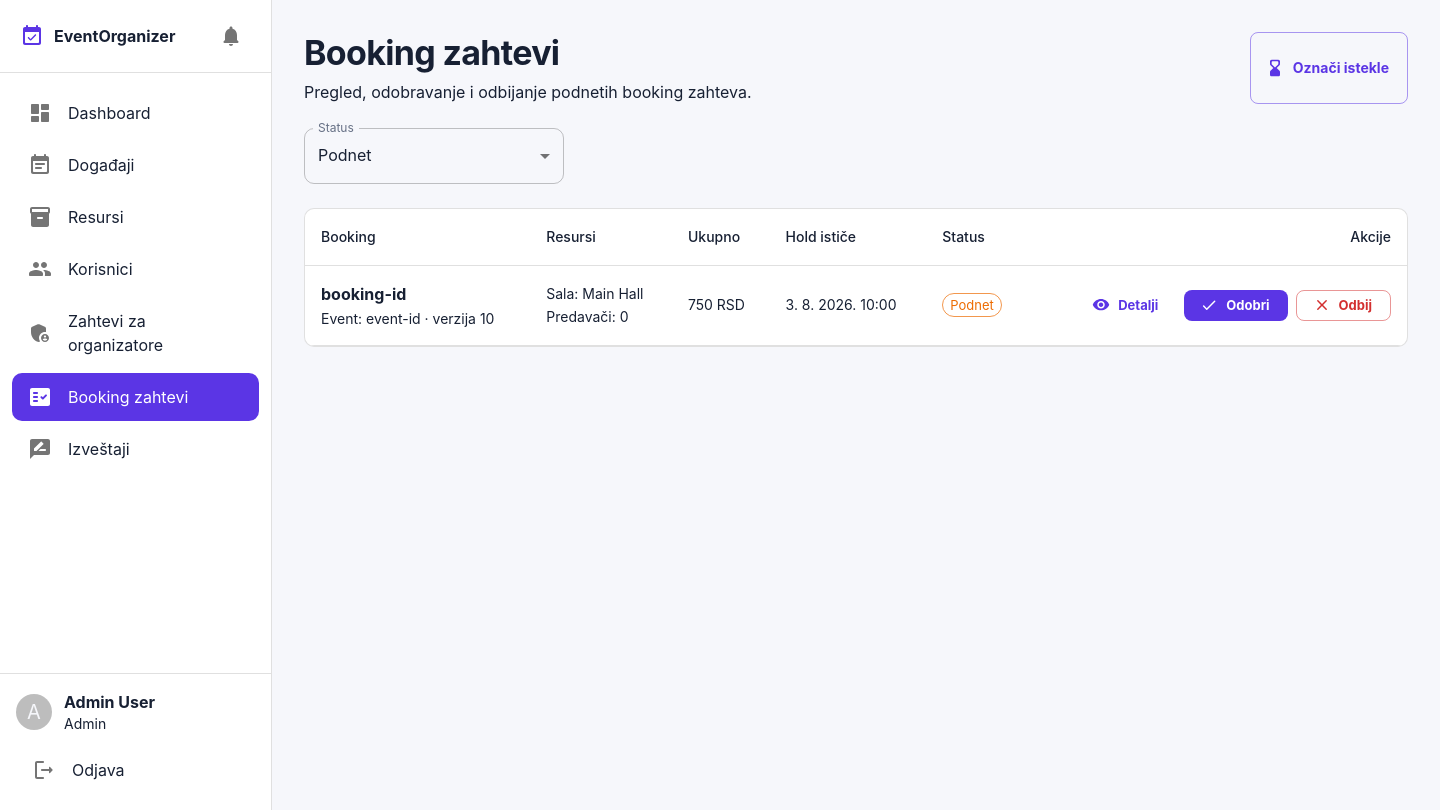
Test: App › rejects submitted bookings with reason and expires old holds
Expected: the text "Sala: Main Hall" is shown, [546, 284, 656, 304]
Click the button "Odbij": click(1343, 305) [1296, 290, 1391, 321]
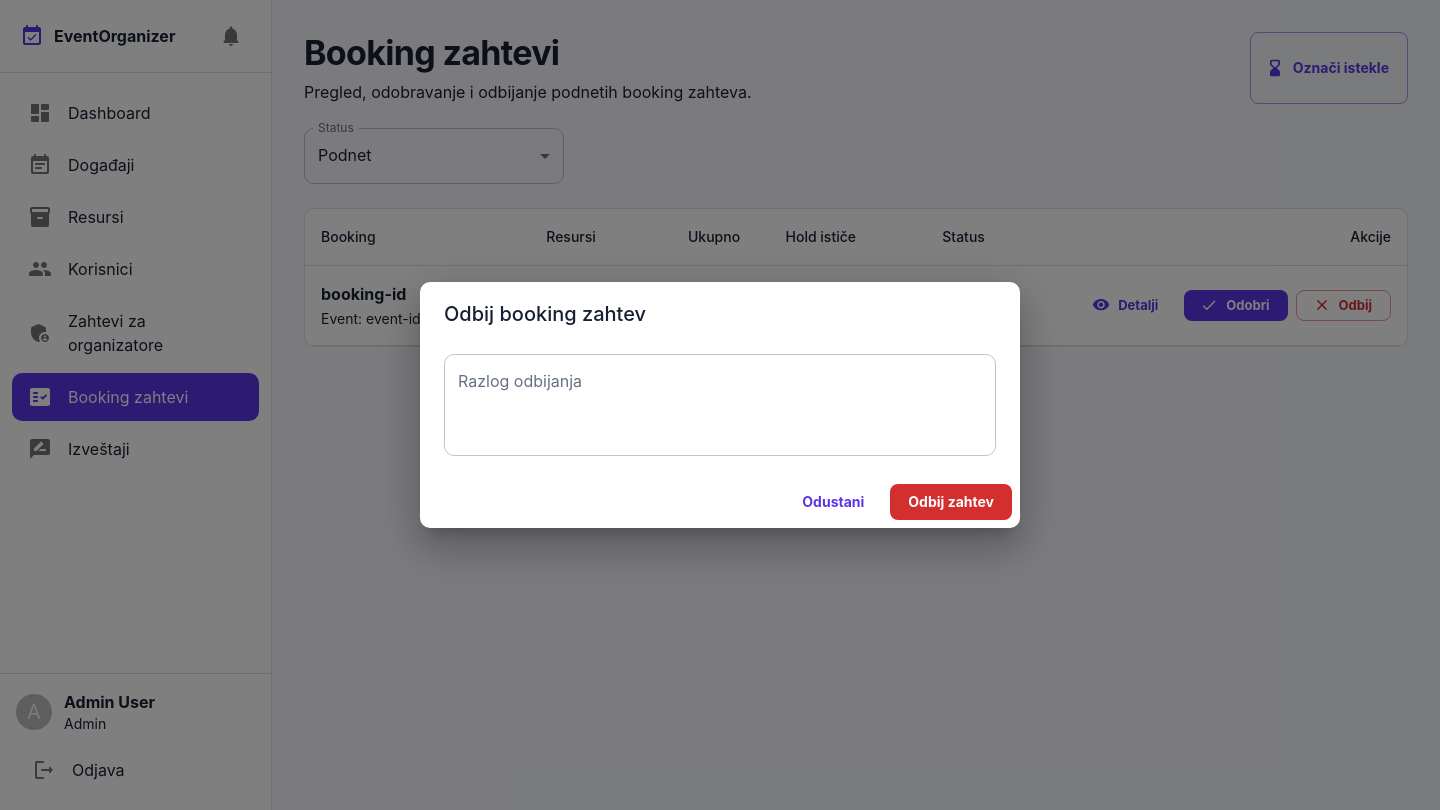
In the text box labelled "Razlog odbijanja": (720, 405) [458, 370, 982, 439], type "Resource unavailable."
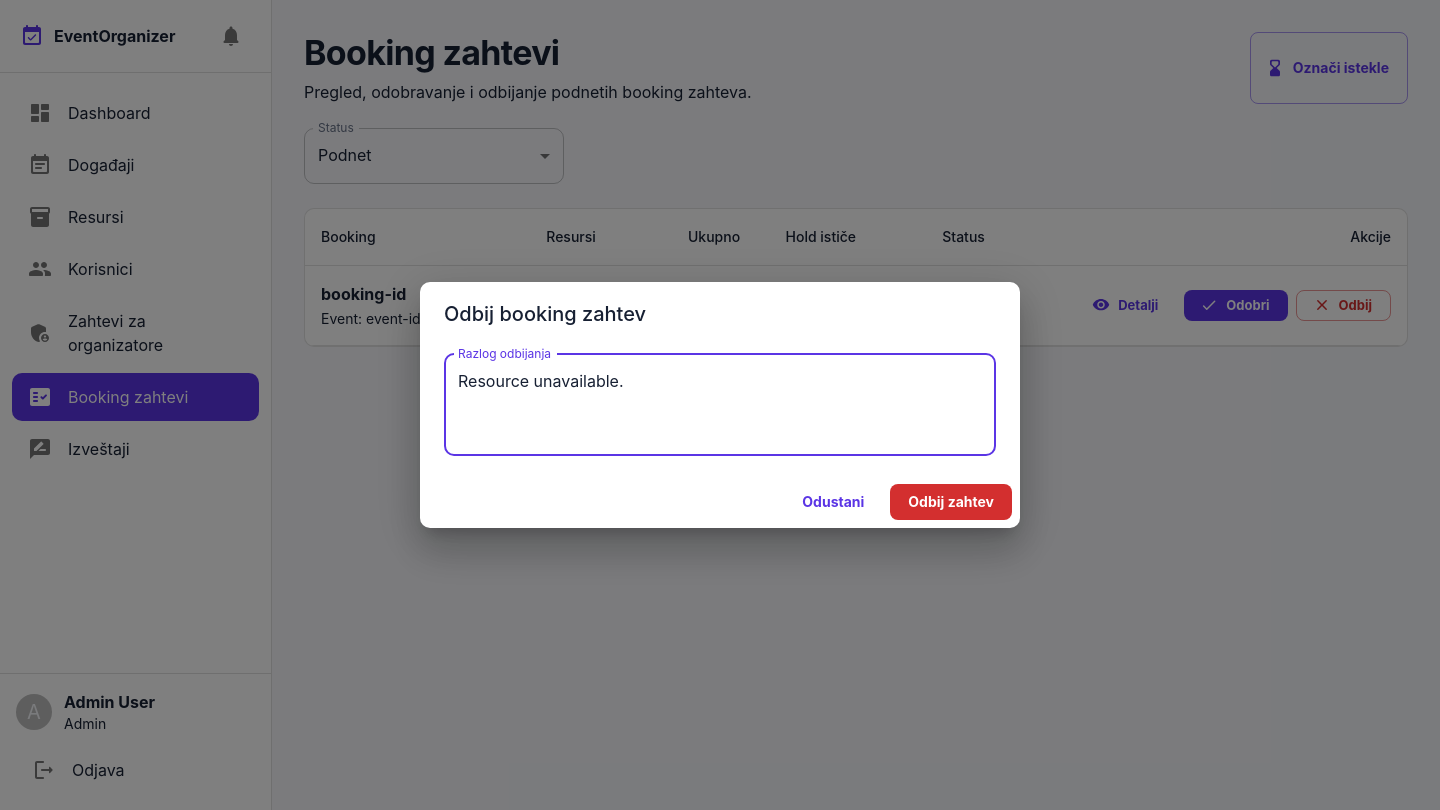
Click the button "Odbij zahtev": click(951, 502) [890, 484, 1012, 520]
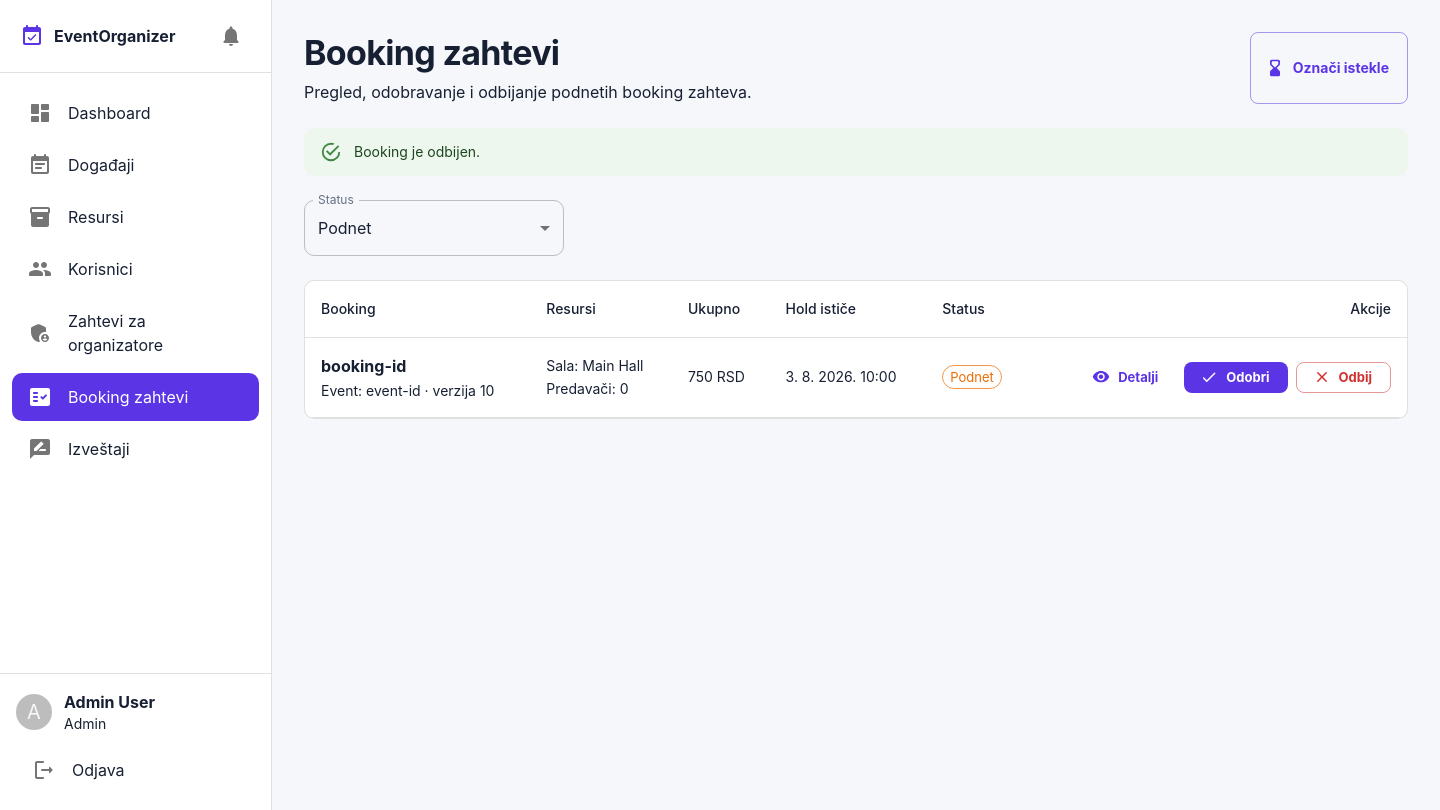
Now the heading "Odbij booking zahtev" is gone
Click the button "Označi istekle": click(1329, 68) [1250, 32, 1408, 104]
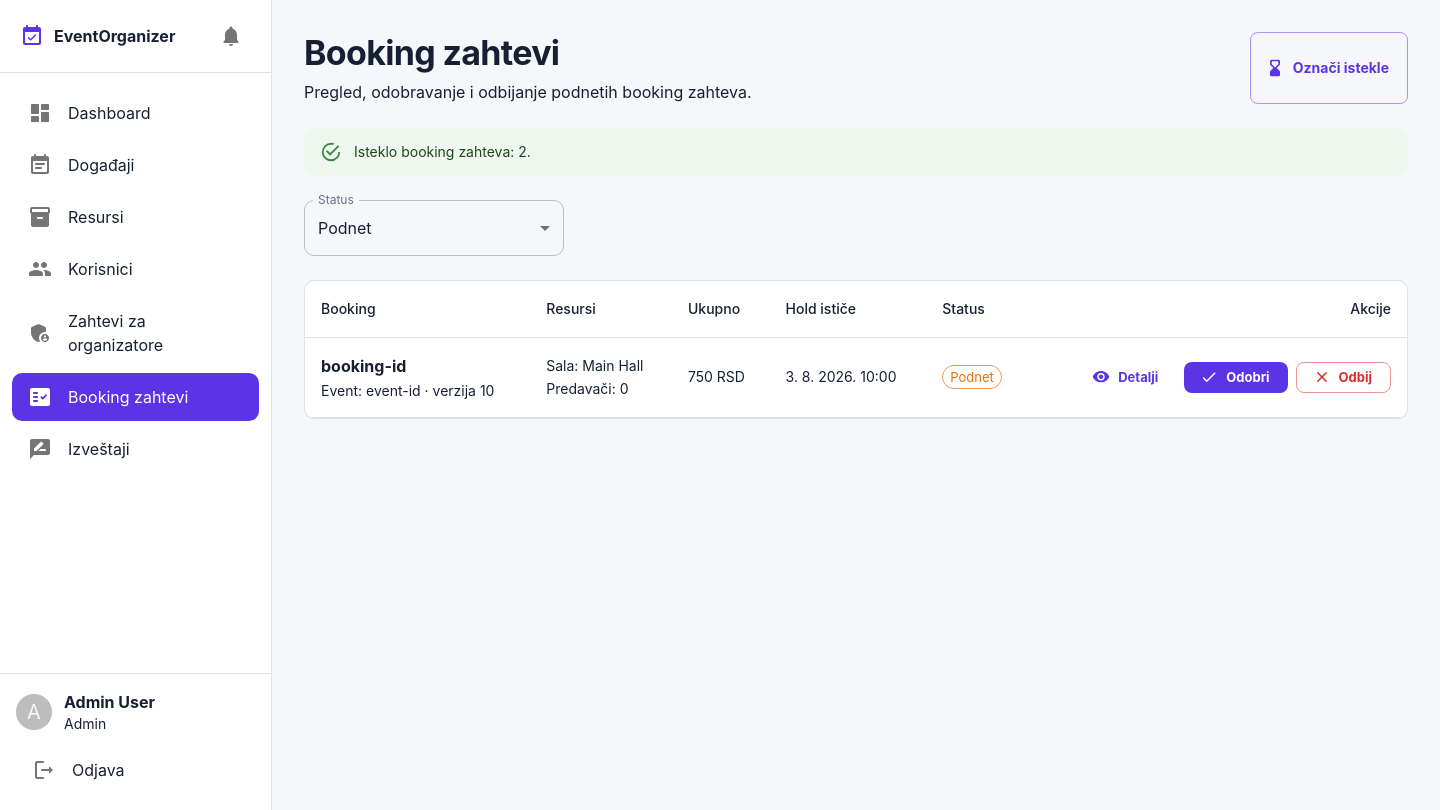
Now the text "Isteklo booking zahteva: 2." is shown, box [354, 143, 531, 160]
